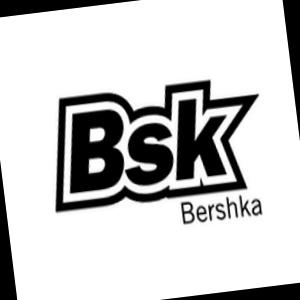bershka: (35, 64, 273, 248)
